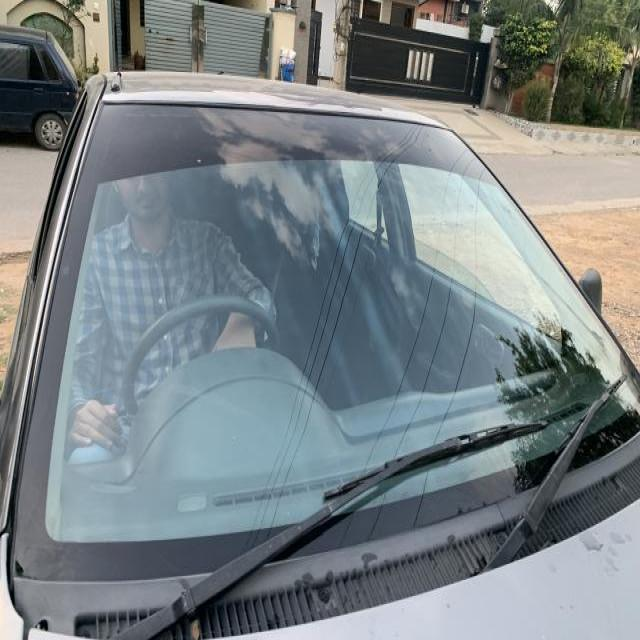no-seatbelt: (73, 207, 275, 463)
